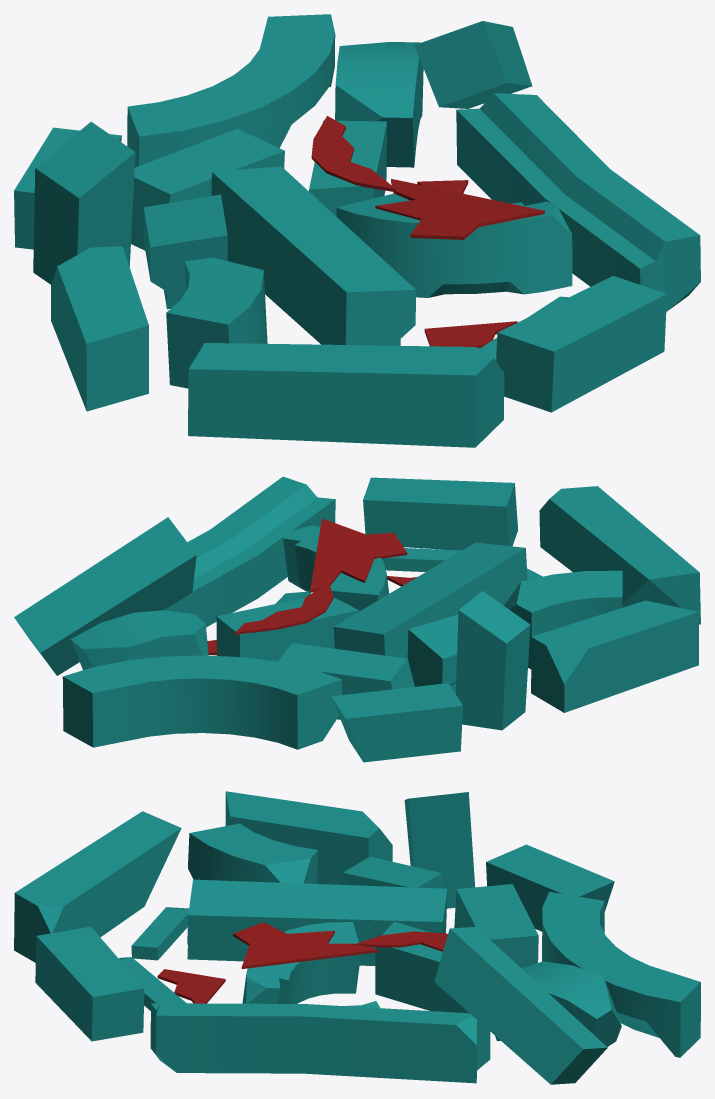
Rendered from Debris_Window_02.FBX.
3 renders of one model, top to bottom at view 1: azimuth 30°, elevation 25°; view 2: azimuth 150°, elevation 25°; view 3: azimuth 270°, elevation 25°, orthographic. The views are drawn at different scales.
Visible parts, largest first — view 1: Debris_Window_02_LOD0; view 2: Debris_Window_02_LOD0; view 3: Debris_Window_02_LOD0.
Part boxes in pixels (x1,y1,x2,y2): Debris_Window_02_LOD0: (14,14,700,447); Debris_Window_02_LOD0: (14,476,700,762); Debris_Window_02_LOD0: (14,791,700,1084).
Size of the model in its own units: 216 by 52.41 by 245.
